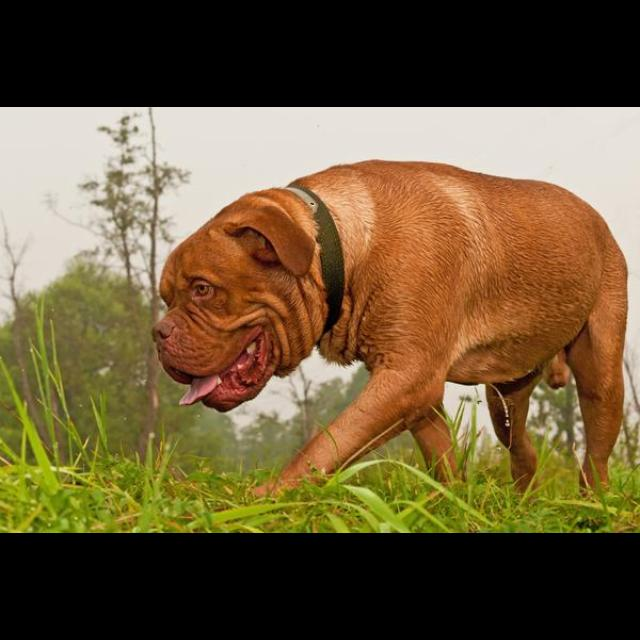dogue_de_bordeaux: (152, 159, 630, 504)
